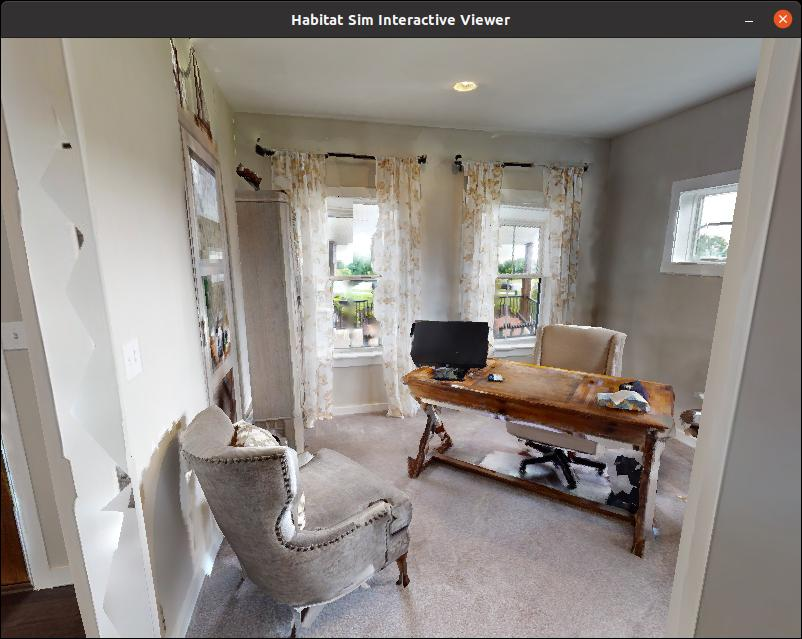chair: (513, 313, 618, 531)
sofa: (183, 385, 438, 639)
table: (393, 333, 686, 567)
